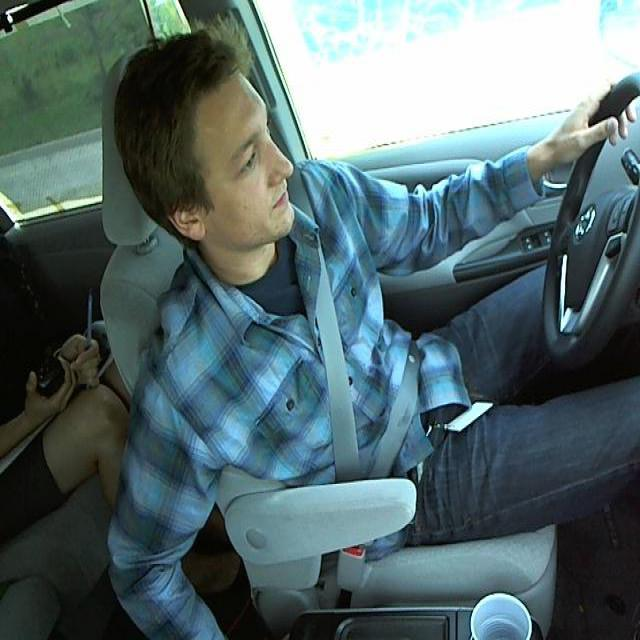seatbelt: (302, 250, 434, 470)
